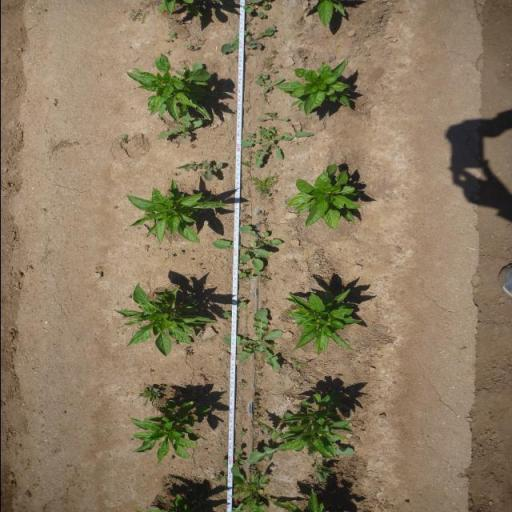plant: (116, 282, 212, 357), (122, 180, 229, 246), (273, 387, 354, 458), (125, 56, 216, 118), (284, 286, 363, 356), (284, 163, 362, 230), (131, 401, 209, 463), (281, 60, 352, 117), (170, 495, 200, 512)
weed: (222, 309, 282, 370), (252, 126, 314, 168), (231, 473, 297, 512), (211, 240, 270, 268), (219, 28, 273, 56), (155, 115, 203, 144), (175, 159, 223, 182), (238, 226, 280, 246), (247, 176, 275, 194), (220, 302, 246, 320), (137, 387, 160, 407), (253, 78, 283, 93), (255, 111, 288, 123), (128, 6, 150, 24), (229, 450, 245, 474), (184, 292, 204, 306), (214, 472, 227, 490), (237, 270, 260, 280), (242, 0, 258, 13), (163, 30, 175, 42), (260, 268, 270, 281), (182, 347, 194, 357), (118, 134, 130, 144), (185, 44, 200, 51), (254, 210, 268, 217), (240, 160, 253, 167), (254, 74, 268, 80), (262, 0, 270, 10), (220, 458, 228, 468), (243, 18, 253, 26), (253, 400, 260, 411), (247, 150, 253, 160), (271, 50, 278, 58), (262, 92, 266, 106), (272, 172, 279, 180), (259, 218, 267, 225), (253, 413, 261, 420), (189, 143, 197, 150), (246, 133, 255, 139), (257, 12, 265, 18), (176, 20, 184, 26), (240, 219, 249, 224), (241, 202, 248, 208), (265, 61, 273, 66), (267, 197, 273, 203), (239, 430, 245, 436), (244, 214, 250, 219), (260, 301, 266, 306), (251, 395, 257, 400), (178, 250, 184, 255), (158, 384, 165, 388), (272, 24, 276, 30), (277, 64, 283, 68), (270, 70, 278, 73), (264, 193, 270, 197), (238, 382, 244, 386), (168, 254, 174, 258), (274, 189, 278, 194), (274, 180, 278, 183), (196, 264, 201, 266), (190, 258, 192, 260)
